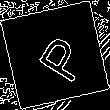P_NW: (23, 26, 87, 84)
